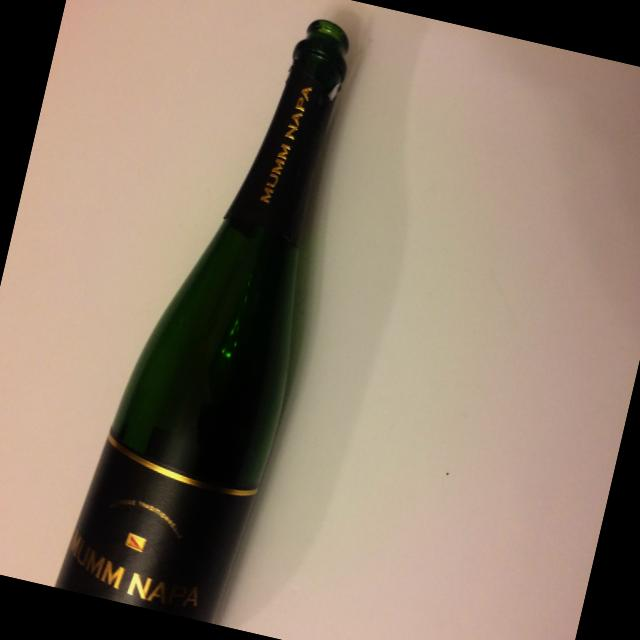Glass: (51, 0, 381, 630)
